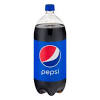pepsi_bottle: (33, 3, 67, 96)
